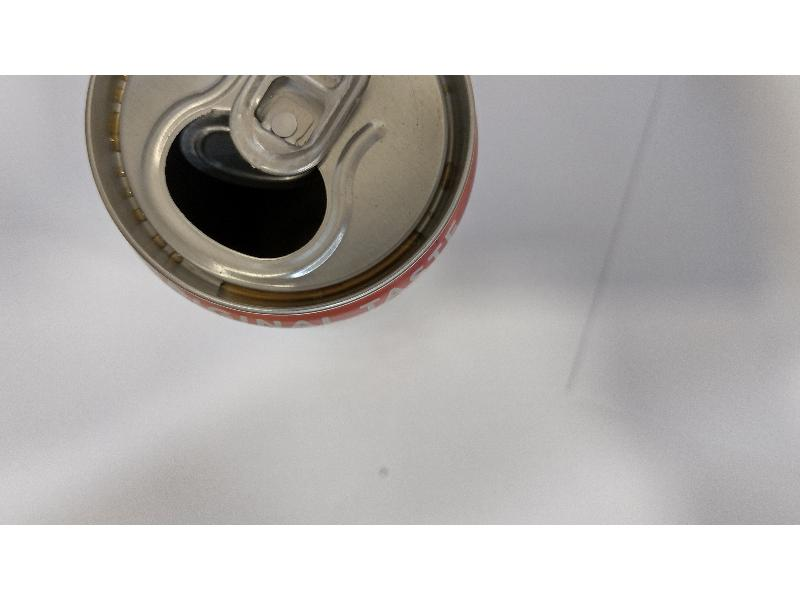can: (75, 75, 484, 336)
